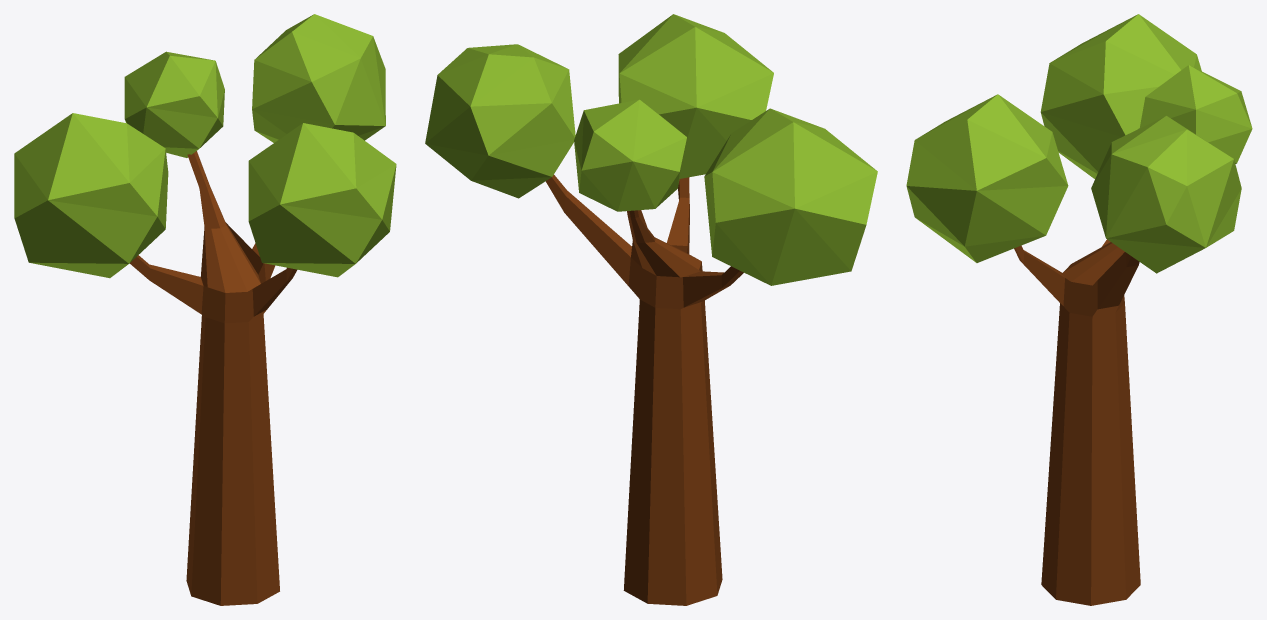
The model's file is treefourbranches.fbx.
3 views of the same model, side by side, from view 1: azimuth 30°, elevation 25°; view 2: azimuth 150°, elevation 25°; view 3: azimuth 270°, elevation 25° (orthographic). The views are drawn at different scales.
Parts seen in each view (by area): view 1: Cylinder, Icosphere.002, Icosphere, Icosphere.001, Icosphere.003; view 2: Cylinder, Icosphere.002, Icosphere.001, Icosphere, Icosphere.003; view 3: Cylinder, Icosphere, Icosphere.001, Icosphere.002, Icosphere.003.
Boxes of the visible parts, left/top/right/bottom form: Cylinder: left=130, top=151, right=297, bottom=605; Icosphere.002: left=14, top=113, right=168, bottom=278; Icosphere: left=248, top=123, right=396, bottom=277; Icosphere.001: left=252, top=14, right=385, bottom=142; Icosphere.003: left=124, top=51, right=224, bottom=157; Cylinder: left=546, top=175, right=743, bottom=605; Icosphere.002: left=704, top=108, right=877, bottom=285; Icosphere.001: left=425, top=44, right=575, bottom=198; Icosphere: left=618, top=14, right=773, bottom=178; Icosphere.003: left=574, top=99, right=686, bottom=211; Cylinder: left=1014, top=239, right=1140, bottom=605; Icosphere: left=906, top=94, right=1068, bottom=262; Icosphere.001: left=1091, top=115, right=1241, bottom=273; Icosphere.002: left=1040, top=14, right=1201, bottom=178; Icosphere.003: left=1139, top=65, right=1252, bottom=163.
Bounding box in the file's own units: 356 × 442 × 267.
